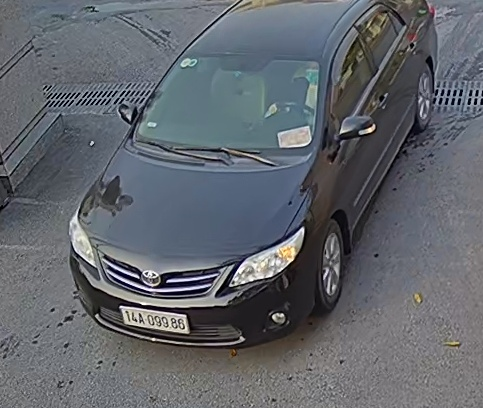vehicle plate: (116, 301, 189, 338)
